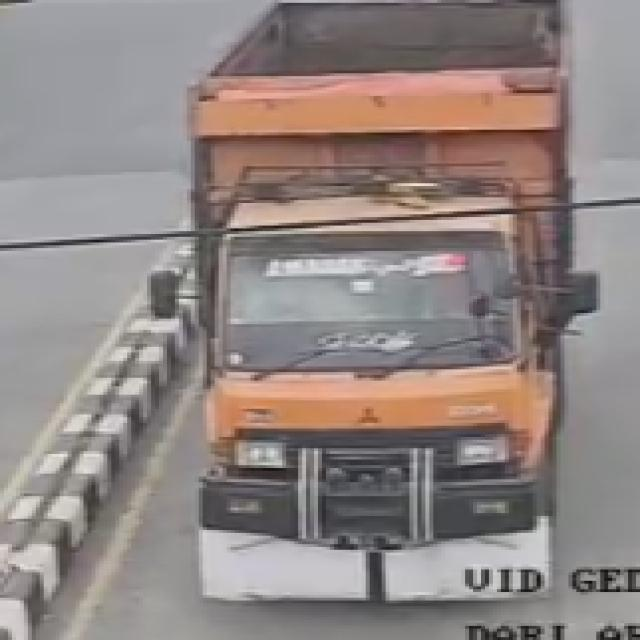truck: (141, 0, 615, 610)
